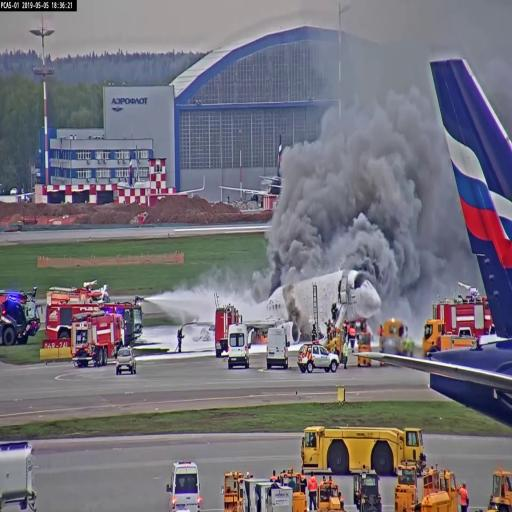smoke: (323, 0, 428, 270), (282, 118, 406, 272)
